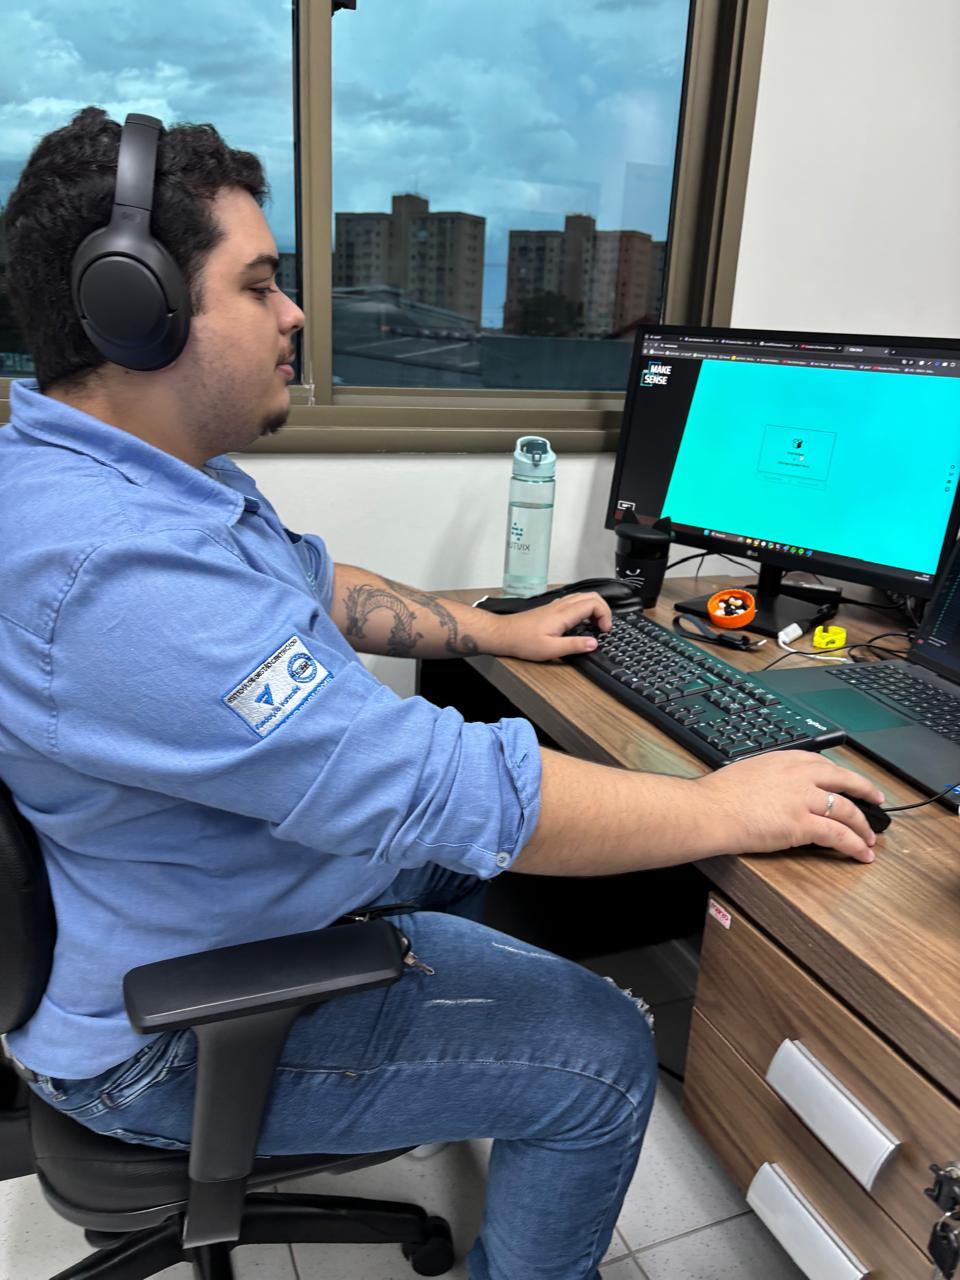no-gloves: (690, 727, 892, 882), (509, 580, 637, 673)
